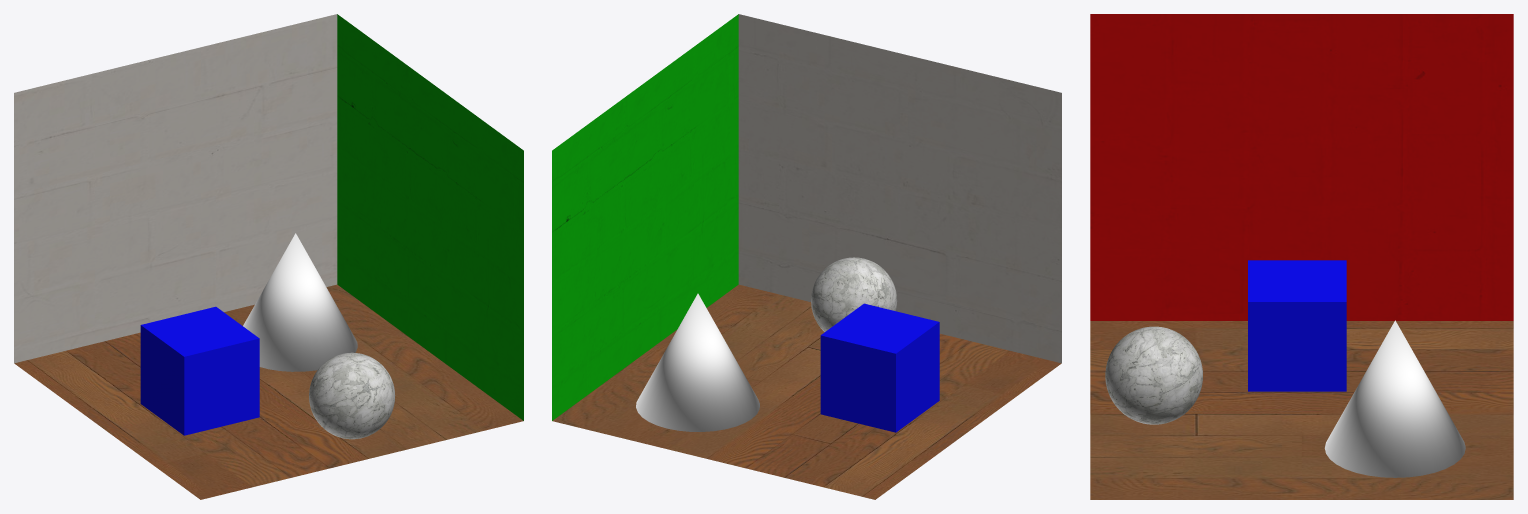
File: cornellbox.glb
The picture shows the model from 3 angles, left to right: view 1: azimuth 30°, elevation 25°; view 2: azimuth 150°, elevation 25°; view 3: azimuth 270°, elevation 25°; orthographic projection. The views are drawn at different scales.
Visible parts, largest first — view 1: Cube, Cube.001, Cone, Sphere; view 2: Cube, Cube.001, Cone, Sphere; view 3: Cube, Cube.001, Cone, Sphere.
Boxes of the visible parts, box(x1,y1,x2,y2) form: Cube: box(14, 14, 523, 499); Cube.001: box(140, 306, 259, 435); Cone: box(243, 233, 357, 371); Sphere: box(309, 352, 395, 439); Cube: box(552, 14, 1061, 499); Cube.001: box(820, 303, 939, 432); Cone: box(636, 293, 759, 431); Sphere: box(811, 257, 897, 331); Cube: box(1090, 14, 1513, 499); Cube.001: box(1248, 260, 1346, 391); Cone: box(1324, 320, 1465, 477); Sphere: box(1105, 326, 1202, 424).
Bounding box in the file's own units: 6 × 4.8 × 6.
Materials: 8 (6 with a texture image).
